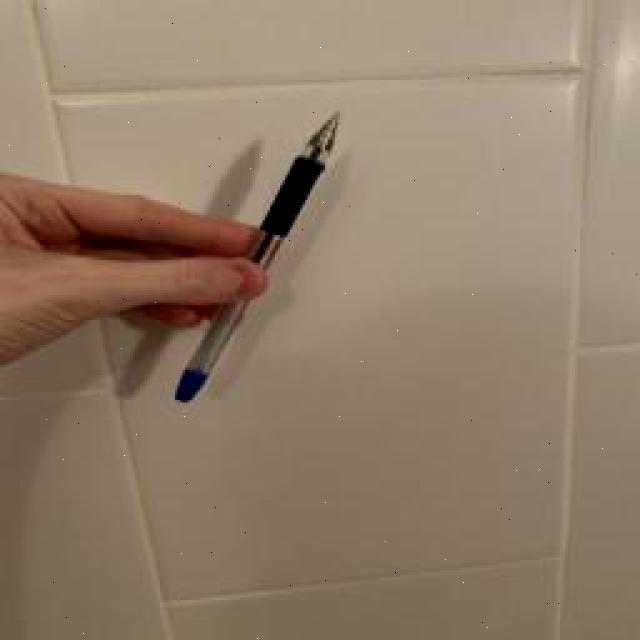pen: (175, 110, 343, 405)
